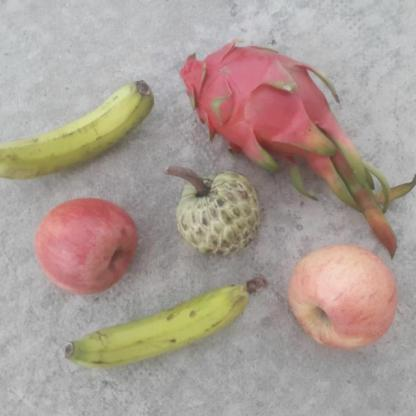annona: (174, 171, 262, 259)
apple: (285, 243, 397, 355), (33, 195, 139, 296)
banana: (50, 276, 268, 378), (0, 79, 155, 182)
pitaya: (176, 40, 330, 164)
